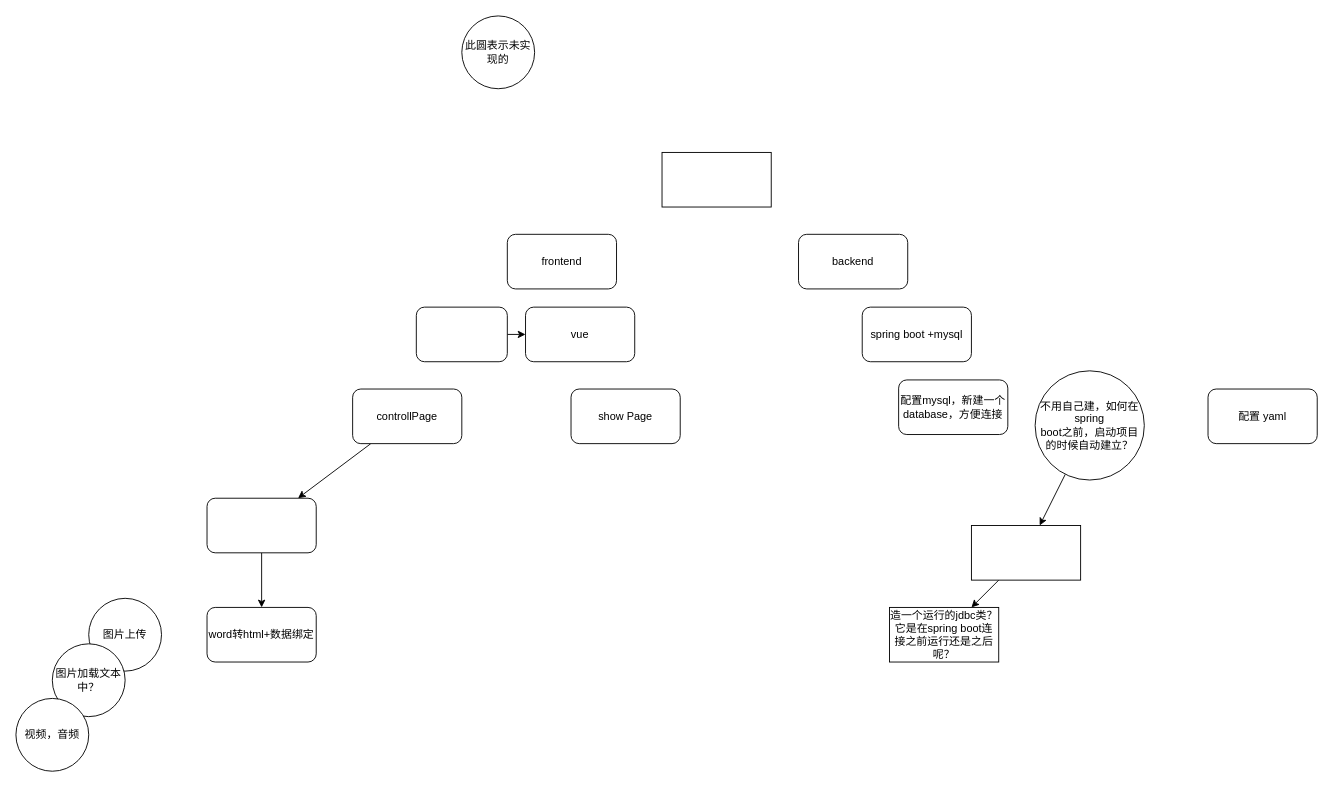
This 1333x787 diagram has some shape labels left out. Here are the shapes that lost their labels. From the top down, the centre of each, then its label:
the point at 716,179: 现有技术用过的+见过的编写一个文章管理系统
the point at 461,334: npm
the point at 261,525: wangEdit
the point at 1026,552: 脚本运行 .sql
